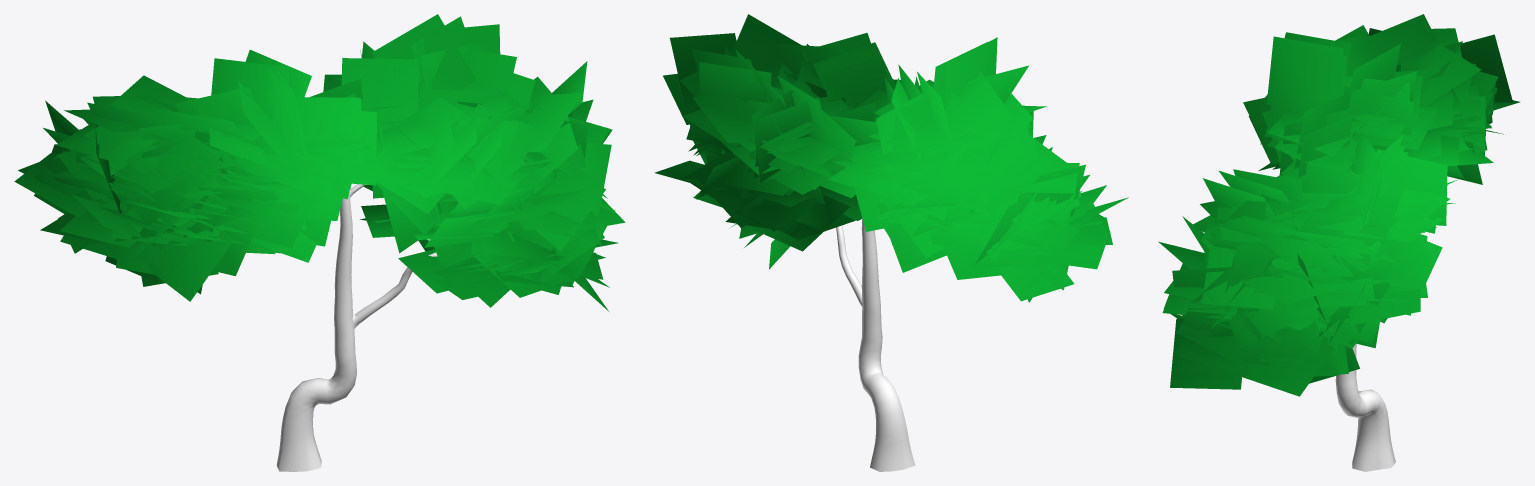
File: SM_Tree3.fbx
The picture shows the model from 3 angles, left to right: view 1: azimuth 30°, elevation 25°; view 2: azimuth 150°, elevation 25°; view 3: azimuth 270°, elevation 25°; orthographic projection. The views are drawn at different scales.
Visible parts, largest first — view 1: SM_TreeFinal_3; view 2: SM_TreeFinal_3; view 3: SM_TreeFinal_3.
Part boxes in pixels (x1,y1,x2,y2): SM_TreeFinal_3: (14, 14, 625, 471); SM_TreeFinal_3: (654, 14, 1128, 471); SM_TreeFinal_3: (1158, 14, 1520, 471).
Size of the model in its own units: 11.79 by 9.25 by 7.63.
